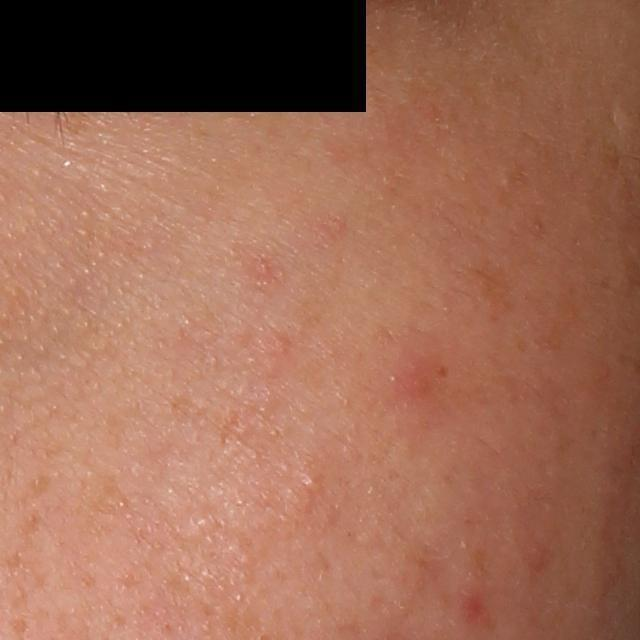atrophic_scar: (606, 101, 620, 127)
